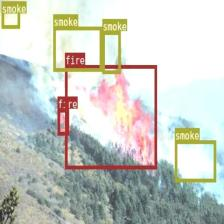fire: (64, 64, 156, 168), (57, 108, 68, 134)
smoke: (53, 26, 101, 71), (174, 140, 216, 181), (102, 31, 120, 74), (1, 1, 20, 27)
